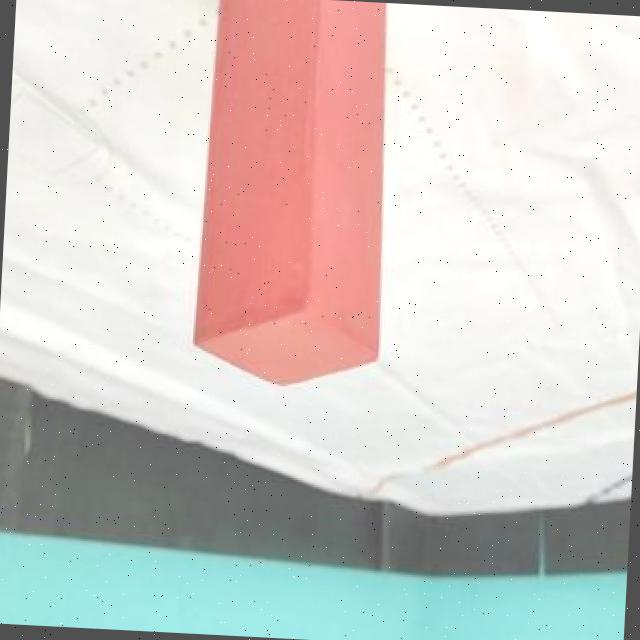redbox: (190, 0, 398, 393)
